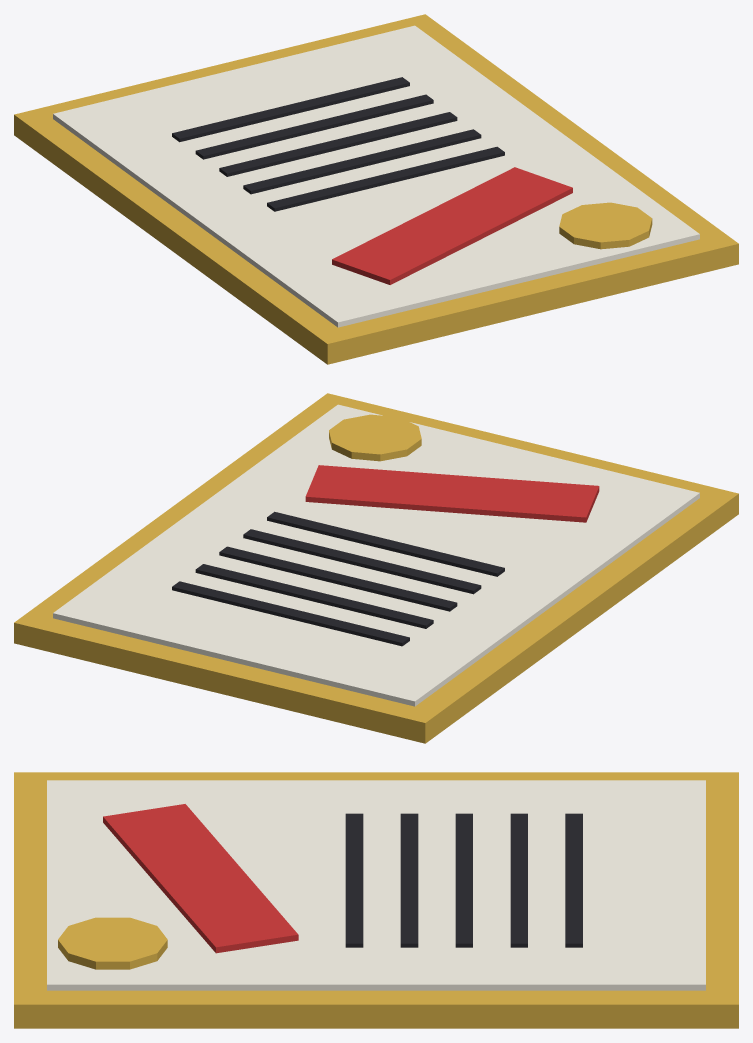
The model's file is fair_safety_certificate.glb.
3 renders of one model, top to bottom at view 1: azimuth 30°, elevation 25°; view 2: azimuth 150°, elevation 25°; view 3: azimuth 270°, elevation 25°, orthographic. The views are drawn at different scales.
Parts seen in each view (by area): view 1: paper_list_paper, frame_fair_gold, lines_list_ink, stamp_fair_red, seal_fair_gold; view 2: paper_list_paper, frame_fair_gold, lines_list_ink, stamp_fair_red, seal_fair_gold; view 3: paper_list_paper, frame_fair_gold, stamp_fair_red, lines_list_ink, seal_fair_gold.
Part boxes in pixels (x1,y1,x2,y2): paper_list_paper: (53,25,699,327); frame_fair_gold: (14,14,738,364); lines_list_ink: (172,77,504,211); stamp_fair_red: (332,167,572,284); seal_fair_gold: (559,202,652,249); paper_list_paper: (53,404,699,706); frame_fair_gold: (14,393,738,743); lines_list_ink: (172,511,504,646); stamp_fair_red: (305,465,599,522); seal_fair_gold: (329,414,421,461); paper_list_paper: (47,780,705,990); frame_fair_gold: (14,772,738,1028); stamp_fair_red: (103,804,298,953); lines_list_ink: (345,813,582,947); seal_fair_gold: (58,917,167,969).
Bounding box in the file's own units: 0.25 × 0.019 × 0.33.
